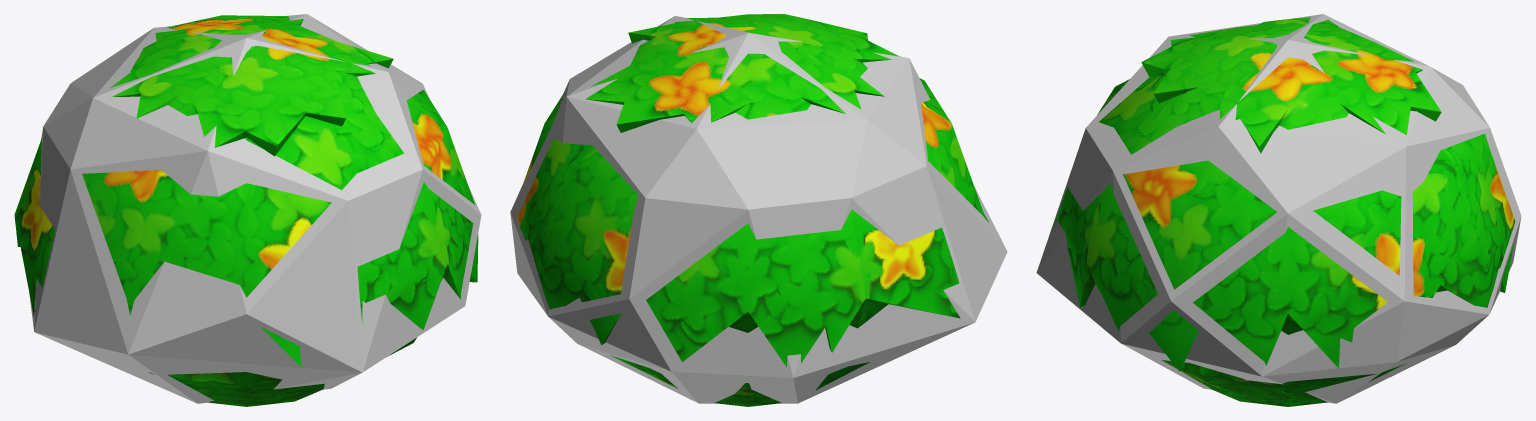
Rendered from SM_Bush01.fbx.
3 renders of one model, left to right at view 1: azimuth 30°, elevation 25°; view 2: azimuth 150°, elevation 25°; view 3: azimuth 270°, elevation 25°, orthographic.
Visible parts, largest first — view 1: SM_Bush01_ConvexHulls, SM_Bush01; view 2: SM_Bush01_ConvexHulls, SM_Bush01; view 3: SM_Bush01, SM_Bush01_ConvexHulls.
Part boxes in pixels (x1,y1,x2,y2): SM_Bush01_ConvexHulls: (29, 14, 481, 403); SM_Bush01: (14, 15, 478, 406); SM_Bush01_ConvexHulls: (510, 16, 1007, 403); SM_Bush01: (517, 14, 988, 406); SM_Bush01: (1052, 17, 1515, 406); SM_Bush01_ConvexHulls: (1036, 14, 1521, 403).
Bounding box in the file's own units: 147 × 148 × 111.
Materials: 2 (1 with a texture image).
